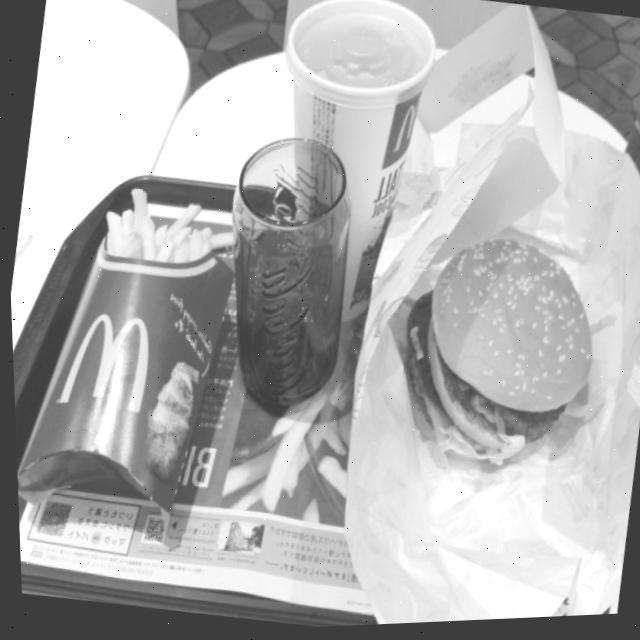汉堡快餐: (364, 192, 626, 534)
炸货点心: (5, 178, 252, 539)
